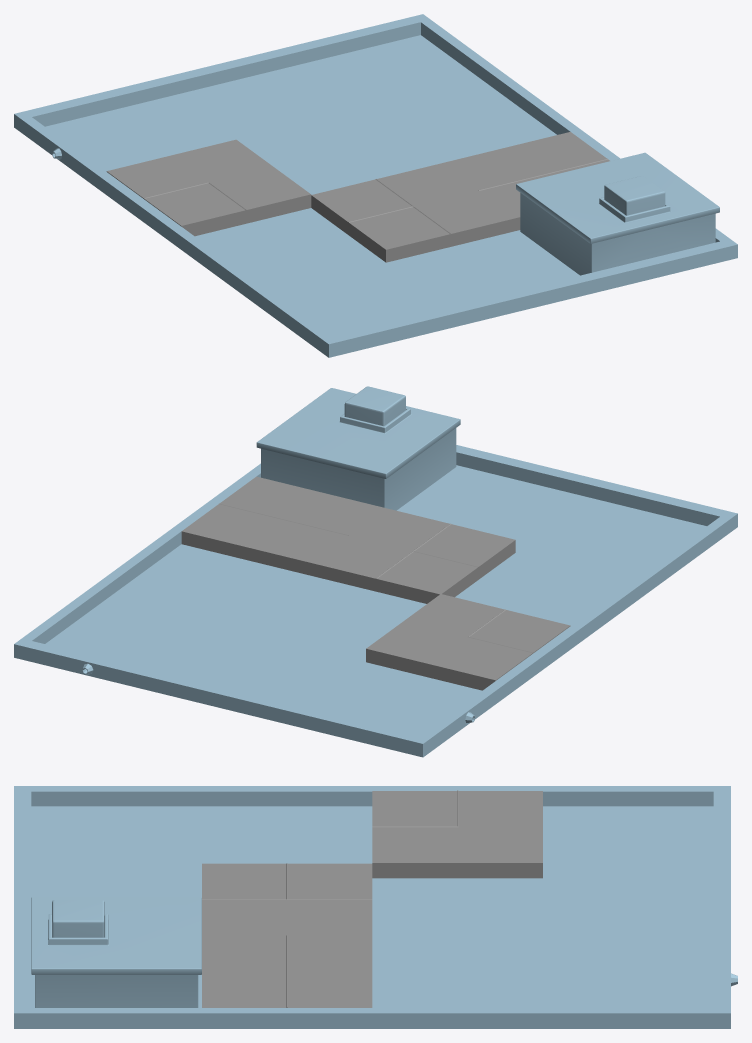
Rendered from Puzzle.fbx.
The picture shows the model from 3 angles, top to bottom: view 1: azimuth 30°, elevation 25°; view 2: azimuth 150°, elevation 25°; view 3: azimuth 270°, elevation 25°; orthographic projection. The views are drawn at different scales.
Visible parts, largest first — view 1: pPlane1, pCube2, pCube11, pCube12, pCube10, pCube3; view 2: pPlane1, pCube2, pCube11, pCube12, pCube10, pCube3; view 3: pPlane1, pCube2, pCube12, pCube10, pCube11, pCube3.
Boxes of the visible parts, x1=… form: pPlane1: x1=14, y1=14, x2=737, y2=357; pCube2: x1=516, y1=152, x2=719, y2=275; pCube11: x1=311, y1=163, x2=515, y2=262; pCube12: x1=106, y1=139, x2=311, y2=236; pCube10: x1=441, y1=132, x2=609, y2=230; pCube3: x1=604, y1=176, x2=665, y2=215; pPlane1: x1=14, y1=445, x2=737, y2=757; pCube2: x1=256, y1=388, x2=460, y2=510; pCube11: x1=311, y1=508, x2=515, y2=603; pCube12: x1=366, y1=594, x2=570, y2=690; pCube10: x1=181, y1=476, x2=385, y2=575; pCube3: x1=344, y1=386, x2=405, y2=426; pPlane1: x1=14, y1=786, x2=737, y2=1028; pCube2: x1=31, y1=897, x2=201, y2=1007; pCube12: x1=372, y1=790, x2=542, y2=878; pCube10: x1=202, y1=935, x2=372, y2=1007; pCube11: x1=202, y1=863, x2=372, y2=935; pCube3: x1=52, y1=900, x2=104, y2=937.
Size of the model in its own units: 3.2 by 0.4991 by 4.25.
